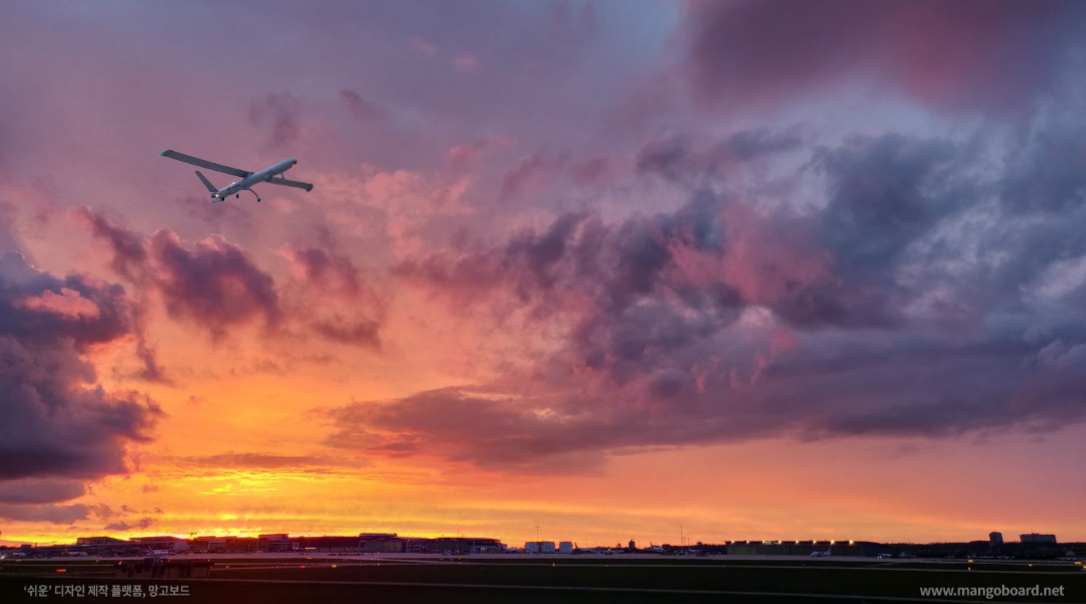military drone: (159, 147, 313, 203)
